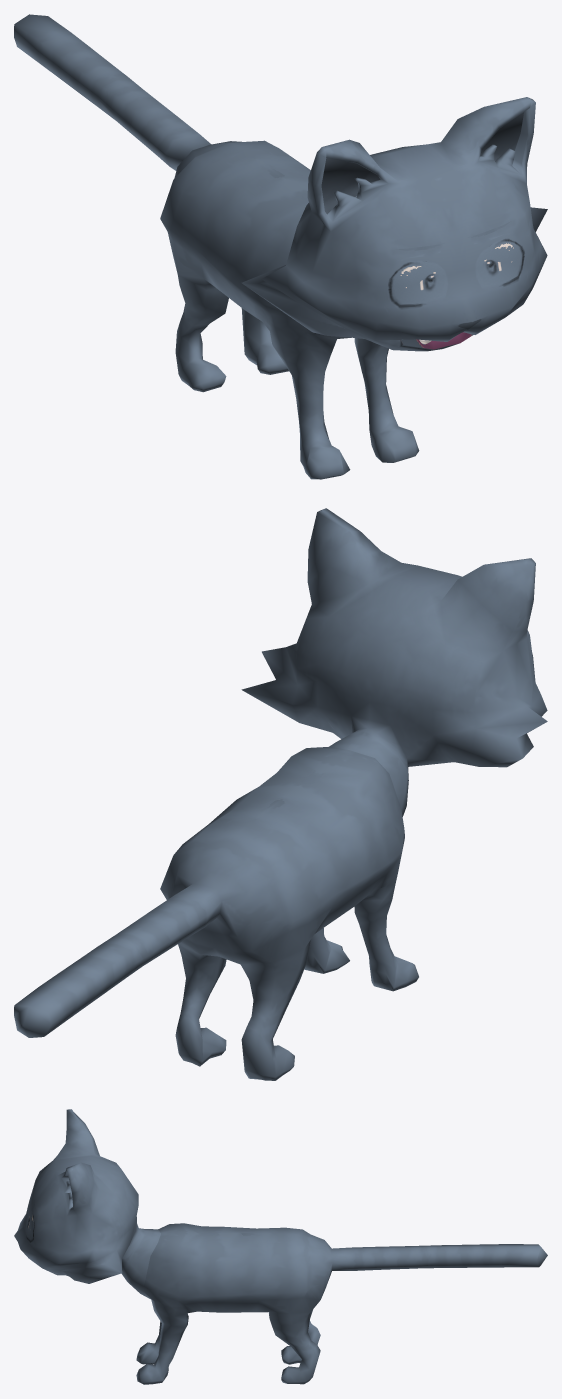
Rendered from tom.glb.
3 views of the same model, one above another, from view 1: azimuth 30°, elevation 25°; view 2: azimuth 150°, elevation 25°; view 3: azimuth 270°, elevation 25° (orthographic). The views are drawn at different scales.
Parts seen in each view (by area): view 1: Carrot; view 2: Carrot; view 3: Carrot.
Part boxes in pixels (<box>): Carrot: <box>14,14,547,479</box>; Carrot: <box>14,508,547,1080</box>; Carrot: <box>14,1109,547,1384</box>.
Bounding box in the file's own units: 1.7 × 2.22 × 4.63.
1 material, 1 textured.
